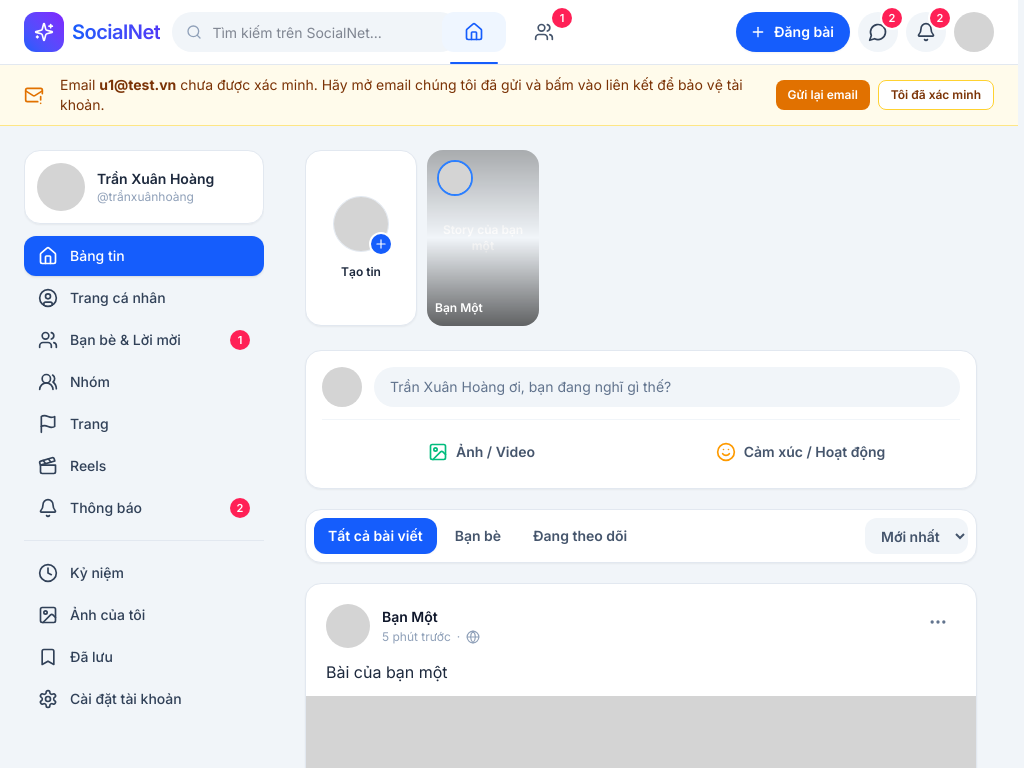
it: Banner nhắc xác minh › gửi lại lỗi → toast lỗi với câu của server
Click the button "Gửi lại email" at (823, 95), box [776,80,870,110]
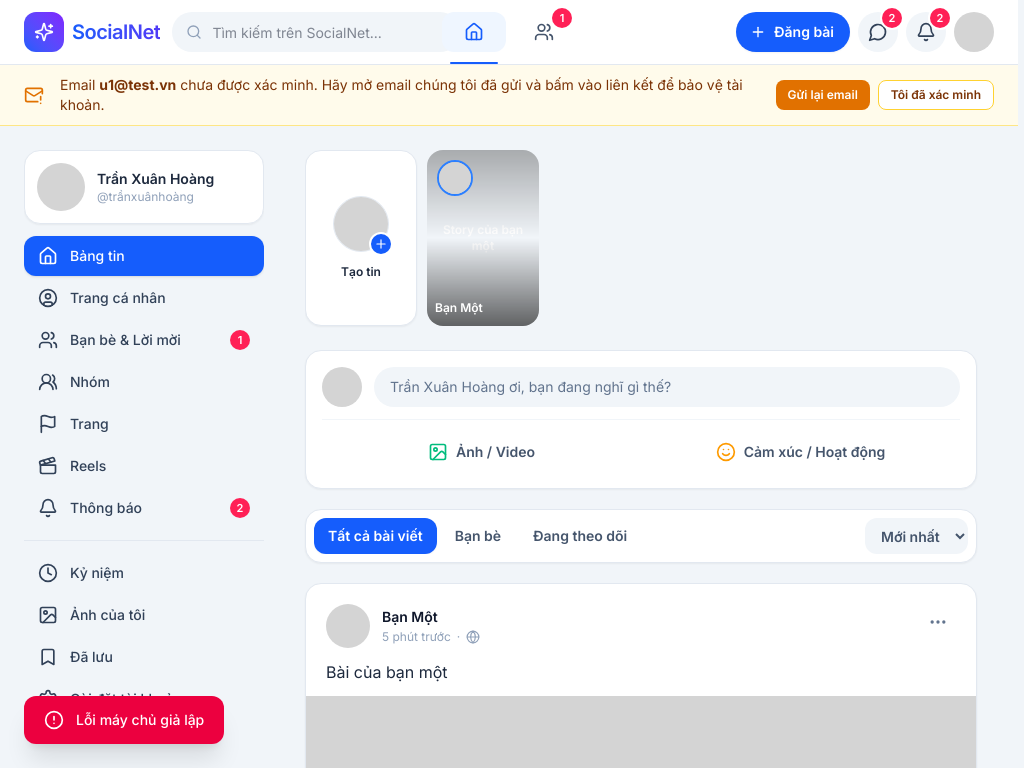
Now the text "Lỗi máy chủ giả lập" is shown, box [76,710,204,730]
